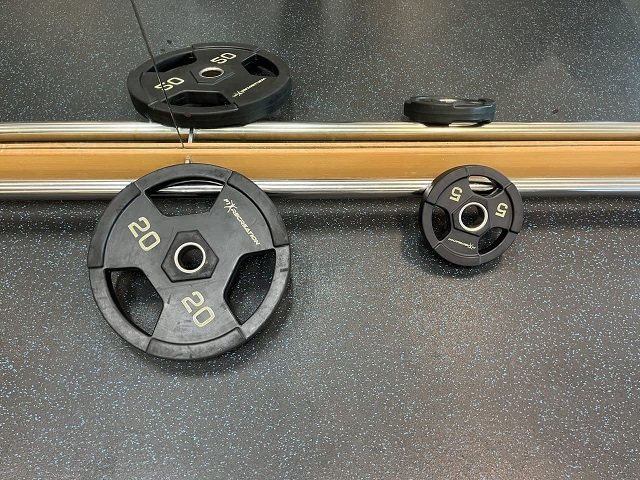weights: (87, 162, 289, 366), (127, 39, 299, 130), (418, 164, 524, 267), (403, 94, 498, 128)
